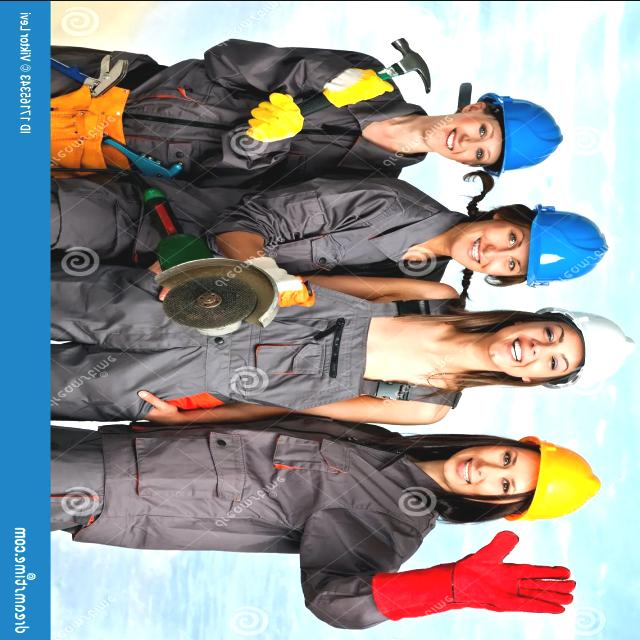Gloves: (368, 526, 590, 624), (244, 252, 317, 304), (244, 90, 308, 142), (318, 67, 396, 109)
Hard Hat: (505, 428, 607, 526), (538, 302, 638, 396), (467, 88, 565, 182), (516, 197, 614, 287)
